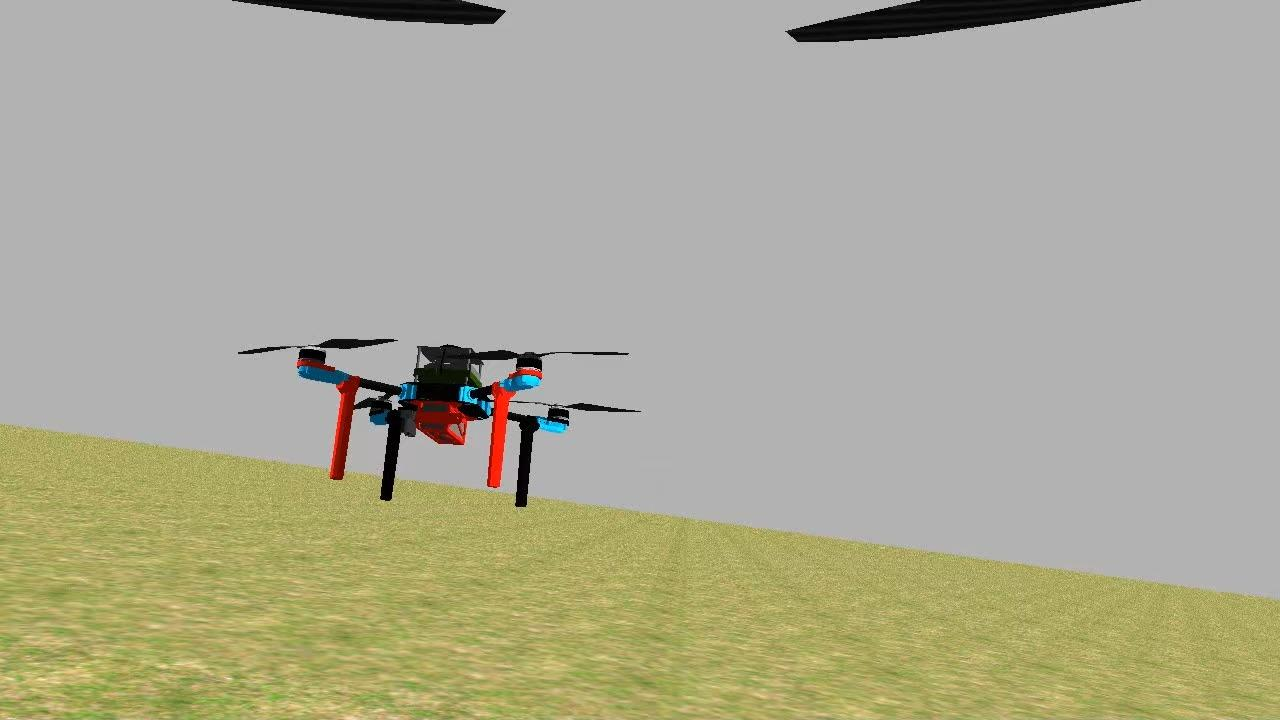UAV: (285, 332, 583, 515)
